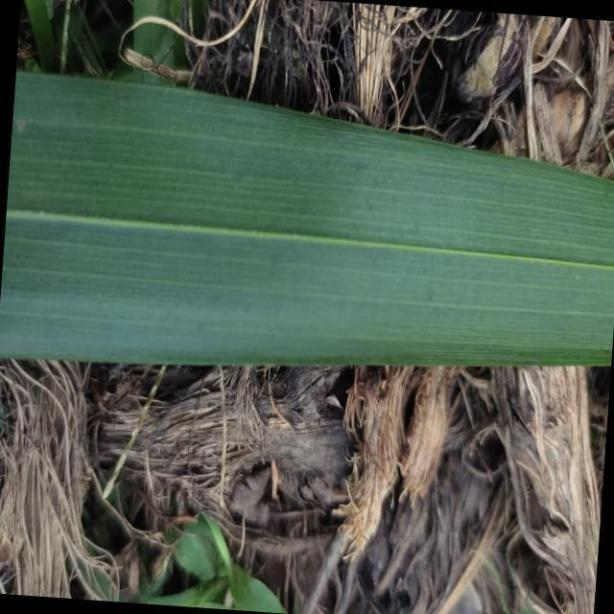Healthy: (5, 62, 614, 366)
